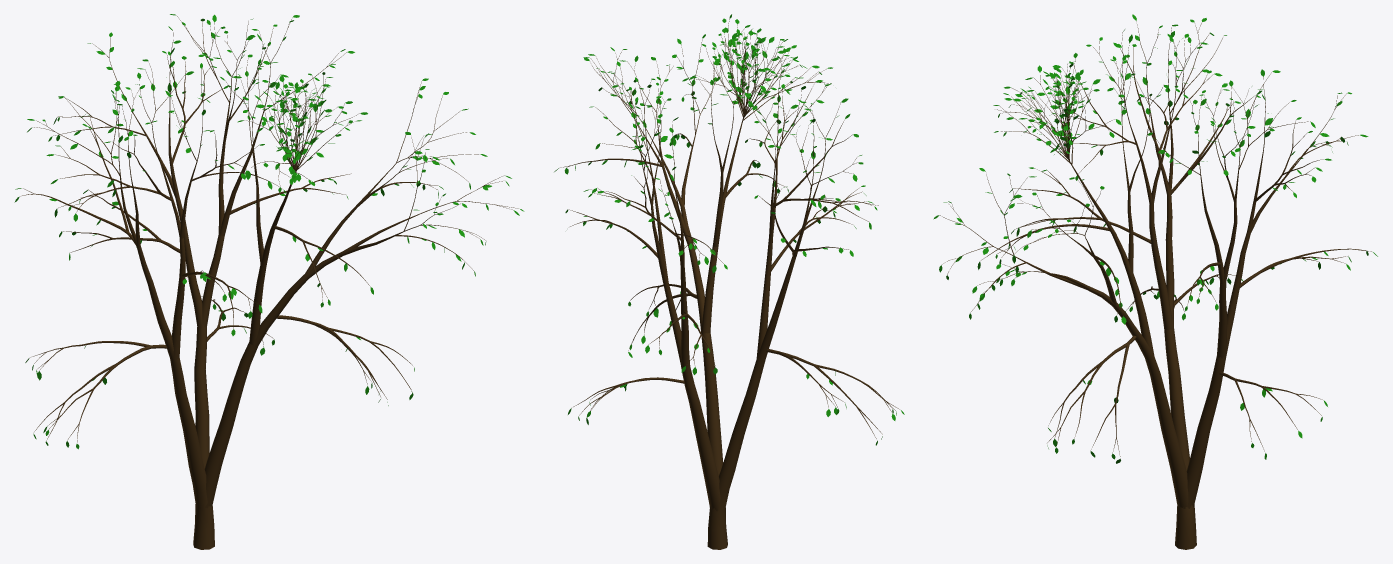
File: tree_level1.gltf
3 views of the same model, side by side, from view 1: azimuth 30°, elevation 25°; view 2: azimuth 150°, elevation 25°; view 3: azimuth 270°, elevation 25° (orthographic). The views are drawn at different scales.
Visible parts, largest first — view 1: tree, leaves; view 2: tree, leaves; view 3: tree, leaves.
Part boxes in pixels (x1=…): tree: x1=20, y1=16, x2=518, y2=549; leaves: x1=14, y1=14, x2=524, y2=449; tree: x1=560, y1=19, x2=899, y2=549; leaves: x1=554, y1=14, x2=904, y2=445; tree: x1=939, y1=21, x2=1371, y2=549; leaves: x1=933, y1=14, x2=1377, y2=463.
Size of the model in its own units: 7.94 by 9.83 by 7.92.
